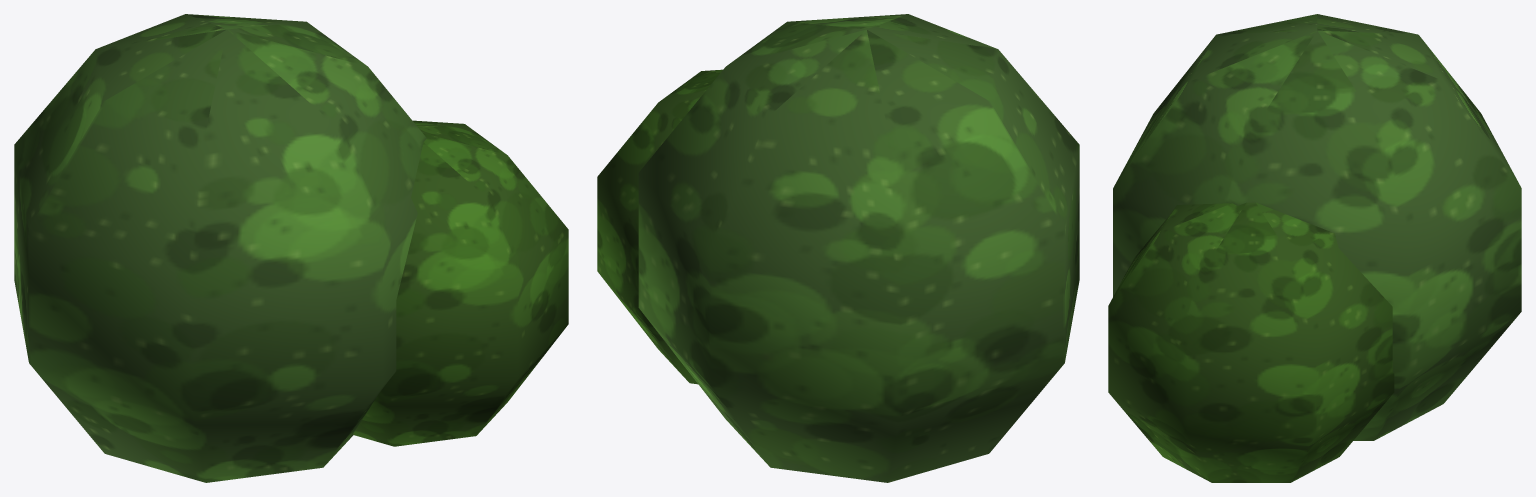
3 renders of one model, left to right at view 1: azimuth 30°, elevation 25°; view 2: azimuth 150°, elevation 25°; view 3: azimuth 270°, elevation 25°, orthographic. The views are drawn at different scales.
Bounding box in the file's own units: 3.48 × 3.09 × 2.9.
Materials: 2 (2 with a texture image).
